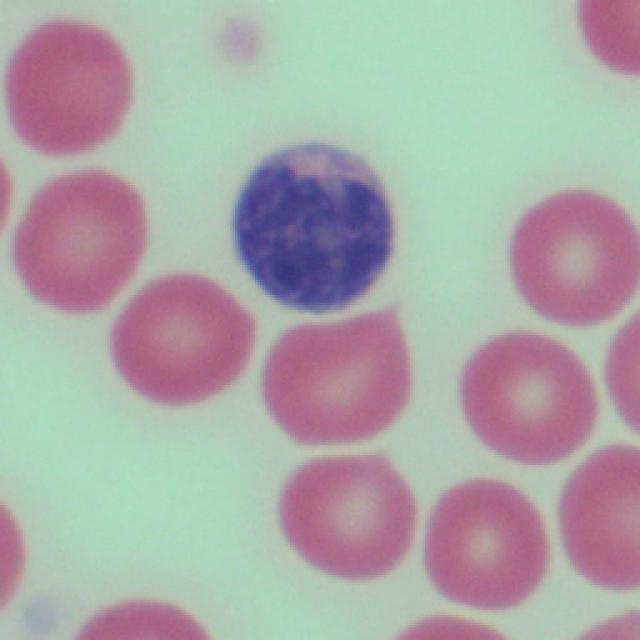RBC: (5, 158, 139, 325), (450, 320, 591, 470), (502, 176, 638, 330), (273, 448, 417, 589), (2, 10, 132, 164), (259, 314, 407, 449), (103, 272, 242, 414), (417, 466, 548, 616), (552, 443, 640, 591), (602, 288, 640, 433), (569, 0, 640, 75), (374, 612, 521, 640)
WBC: (226, 127, 398, 328)
